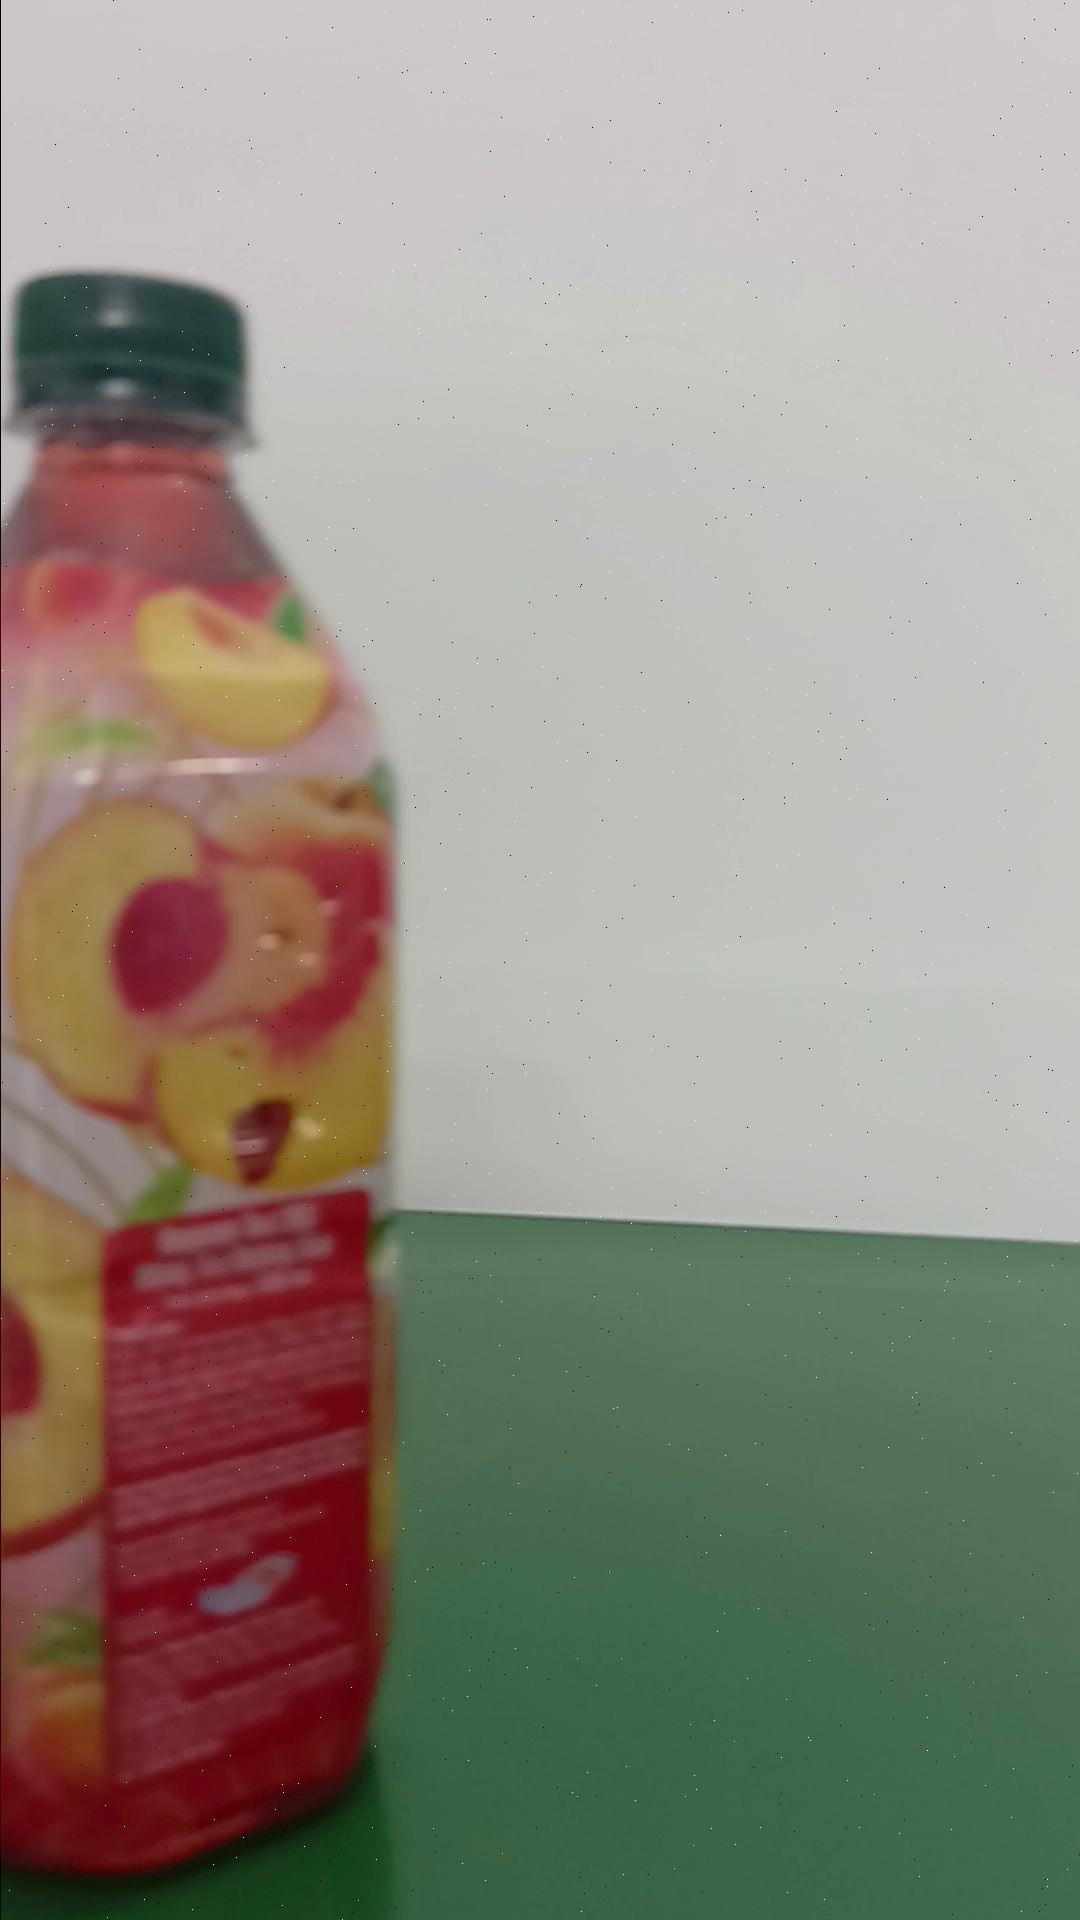loi rach va lap chai: (3, 262, 413, 1894)
